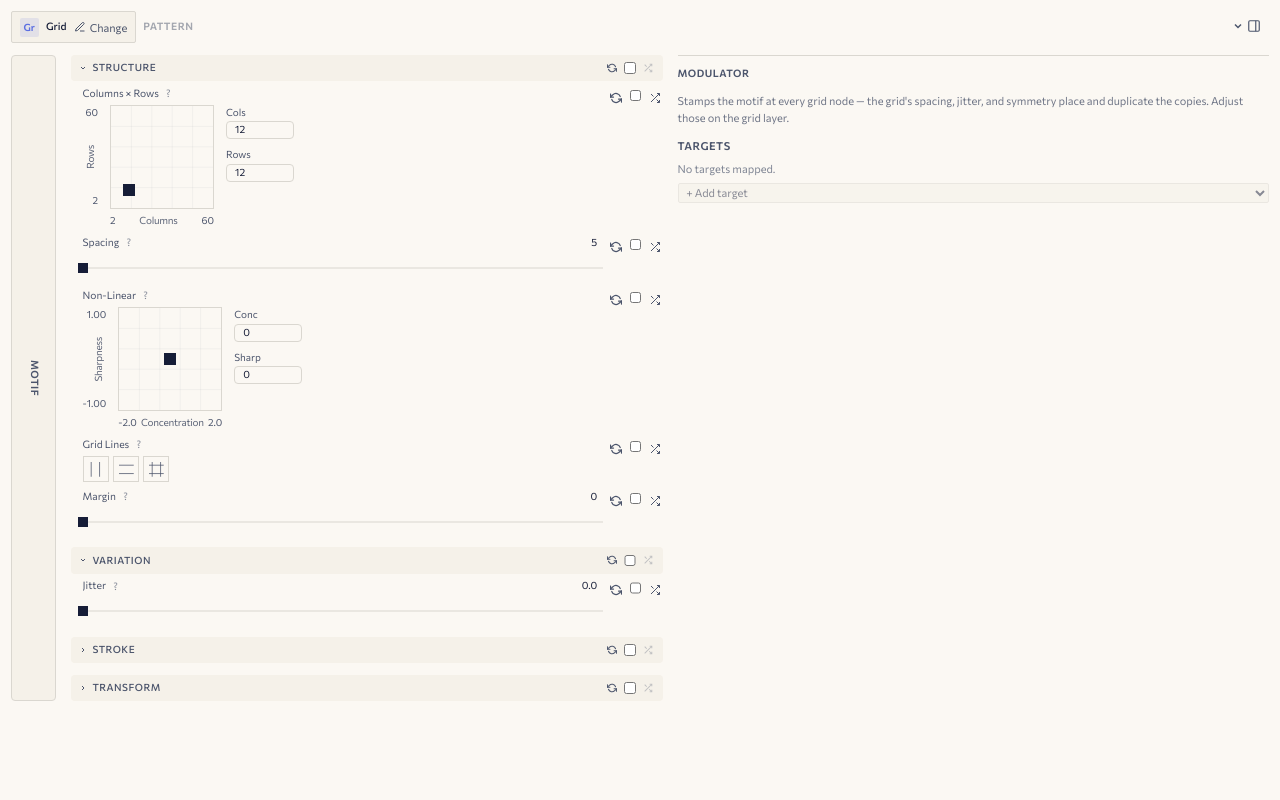
it: MotifDevice docked bottom collapsed strip (Ableton) › the strip label expands the device back to its full body
Click the button with test id "motif-toggle" at (34, 378), box [27, 63, 41, 693]
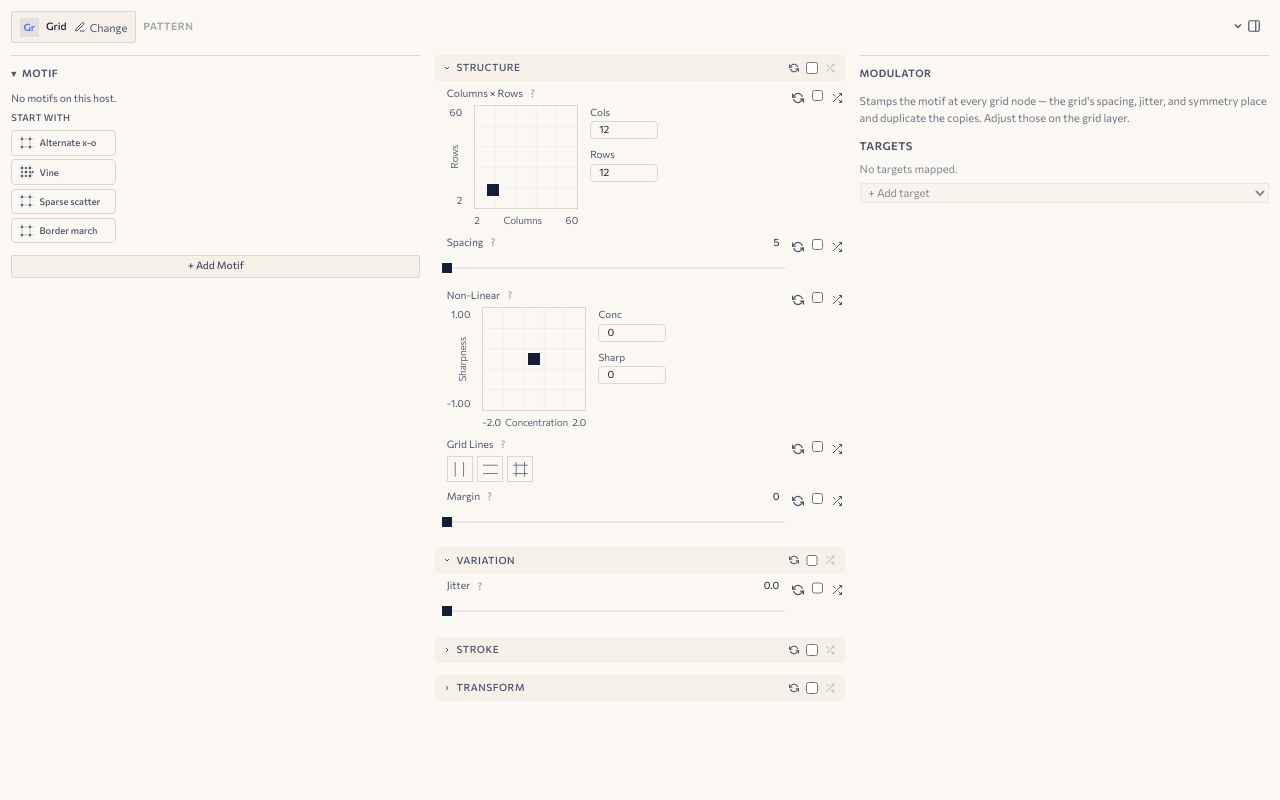
Now the element with test id "motif-device" does not have attribute data-collapsed, box [11, 54, 420, 278]
